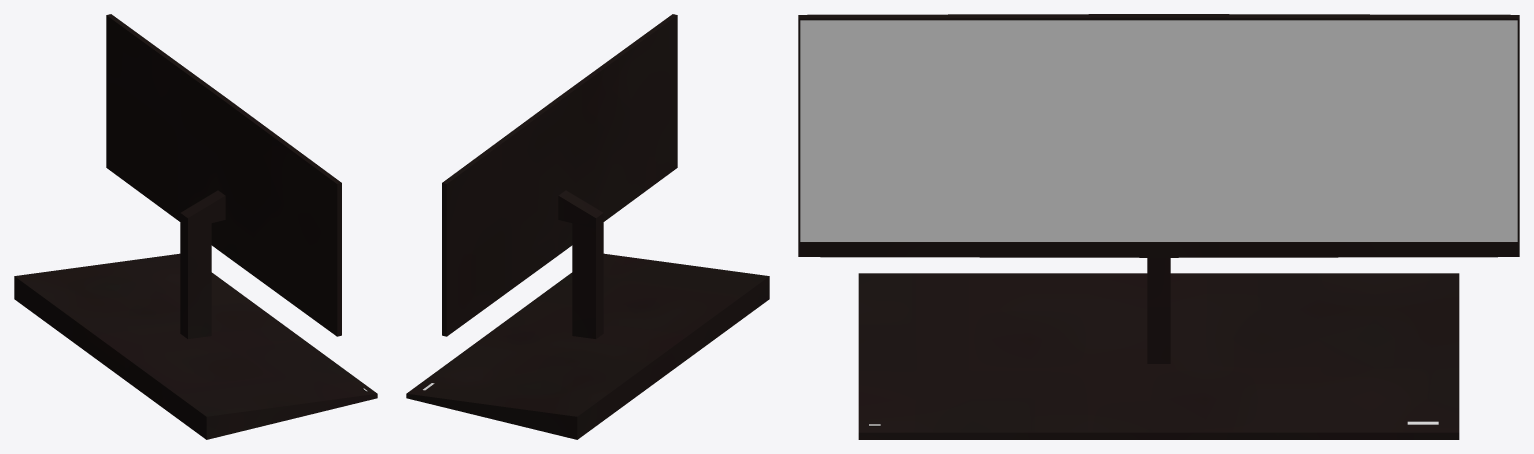
Rendered from DISPLAY2_RE7.fbx.
The picture shows the model from 3 angles, left to right: view 1: azimuth 30°, elevation 25°; view 2: azimuth 150°, elevation 25°; view 3: azimuth 270°, elevation 25°; orthographic projection. The views are drawn at different scales.
Visible parts, largest first — view 1: Cube; view 2: Cube; view 3: Cube.
Part boxes in pixels (x1,y1,x2,y2): Cube: [14, 14, 377, 439]; Cube: [406, 14, 769, 439]; Cube: [798, 14, 1519, 439].
Bounding box in the file's own units: 719 × 978 × 1681.
3 materials, 1 textured.
